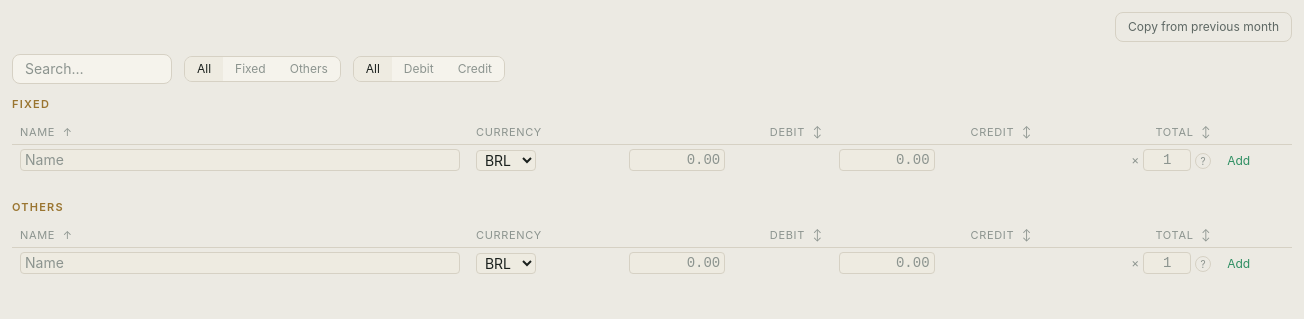
Test: ExpenseList — installments › shows parcel hint with breakdown when parcels >= 2 and credit > 0
Type "600" into the number field named "credit" at (886, 263), box [838,252,934,274]
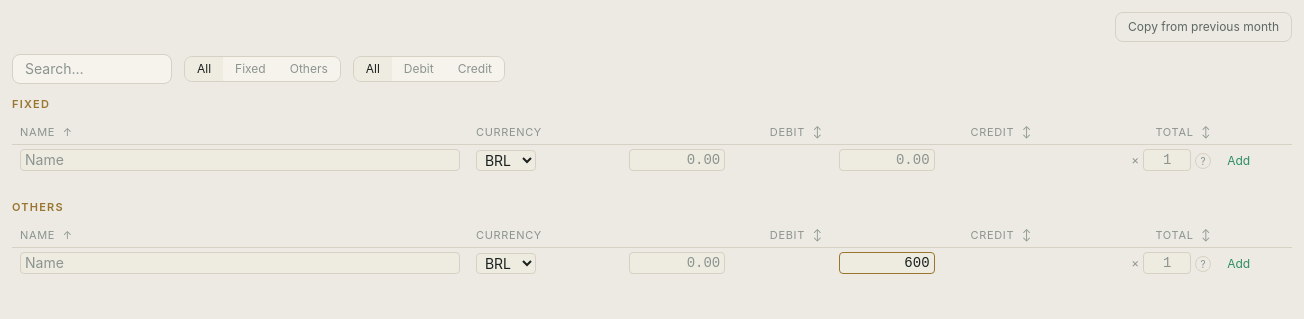
Type "3" into the number field named "parcels" at (1167, 263), box [1143,252,1191,274]
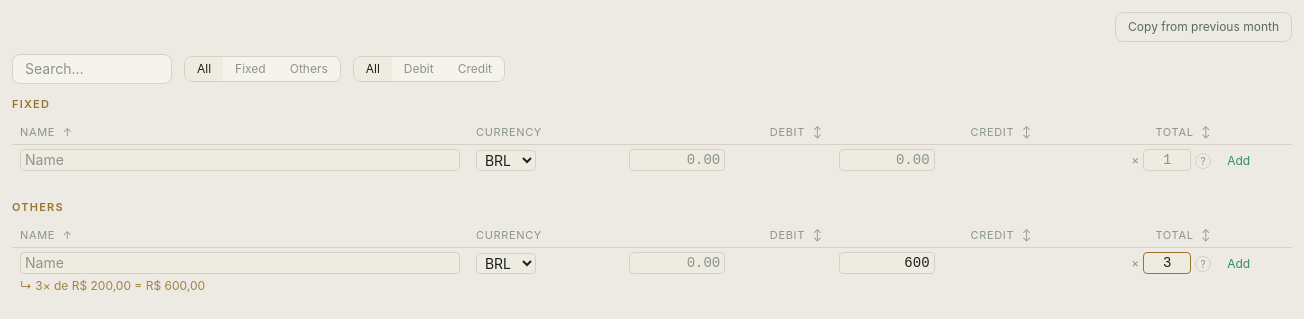
Now the row with test id "parcel-hint" shows "3×", box [12,278,1292,302]
Now the row with test id "parcel-hint" shows "200", box [72,278,131,293]
Now the row with test id "parcel-hint" shows "600", box [146,278,205,293]
